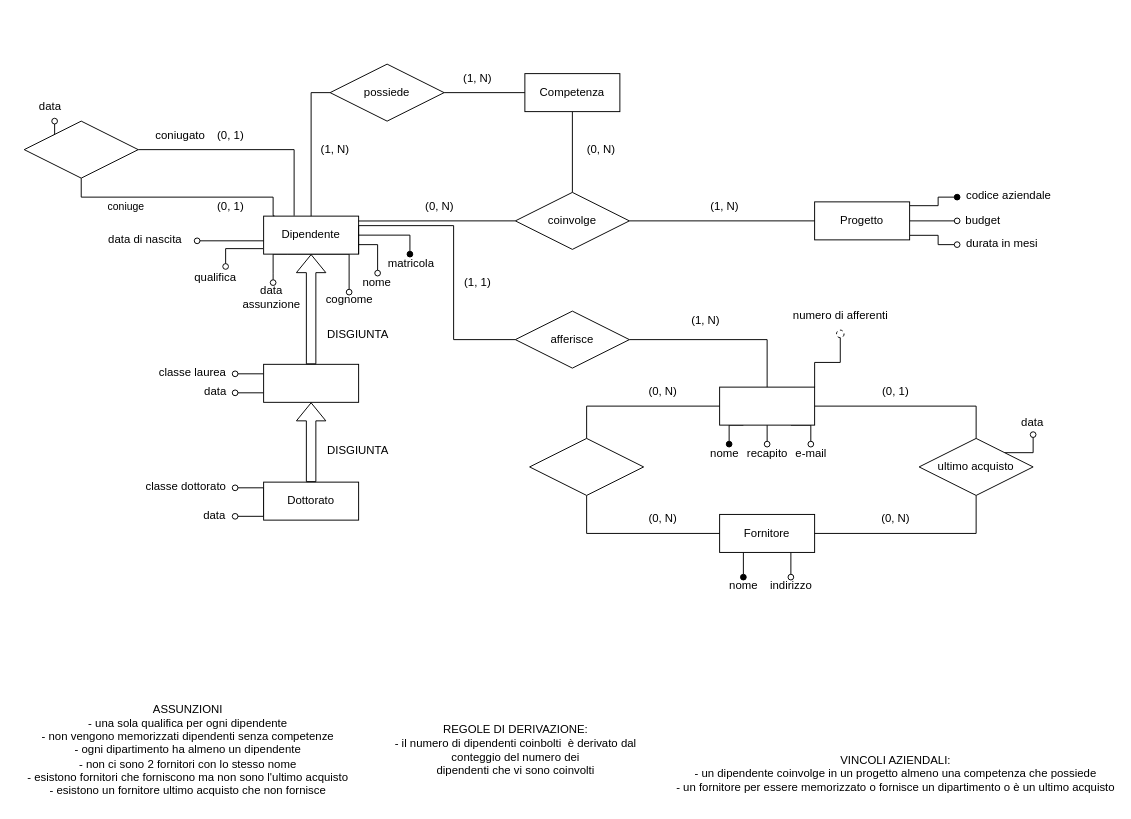
Some shapes in this 1131 by 819 pixel diagram are drawn without their labels. Here are the shapes that lost their labels. From the top down, the box of each, then its label:
(23, 120, 138, 178): matrimonio
(263, 363, 359, 402): Laureato
(719, 386, 815, 425): Dipartimento
(529, 437, 644, 495): fornisce
